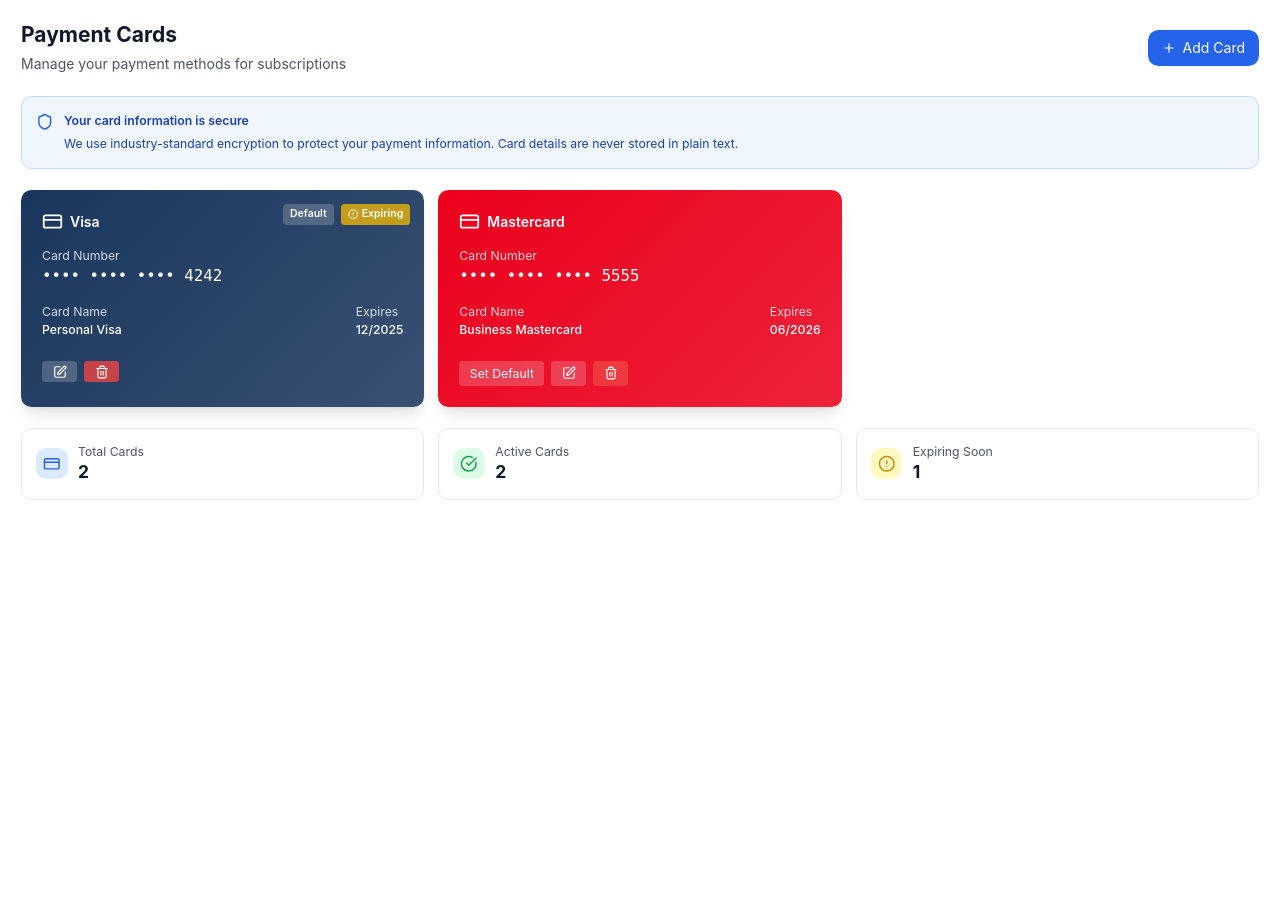
Scenario: PaymentCardsView › Card Validation › should validate CVV
Click the button "Add Card": x=1203, y=48 [1148,30,1259,66]
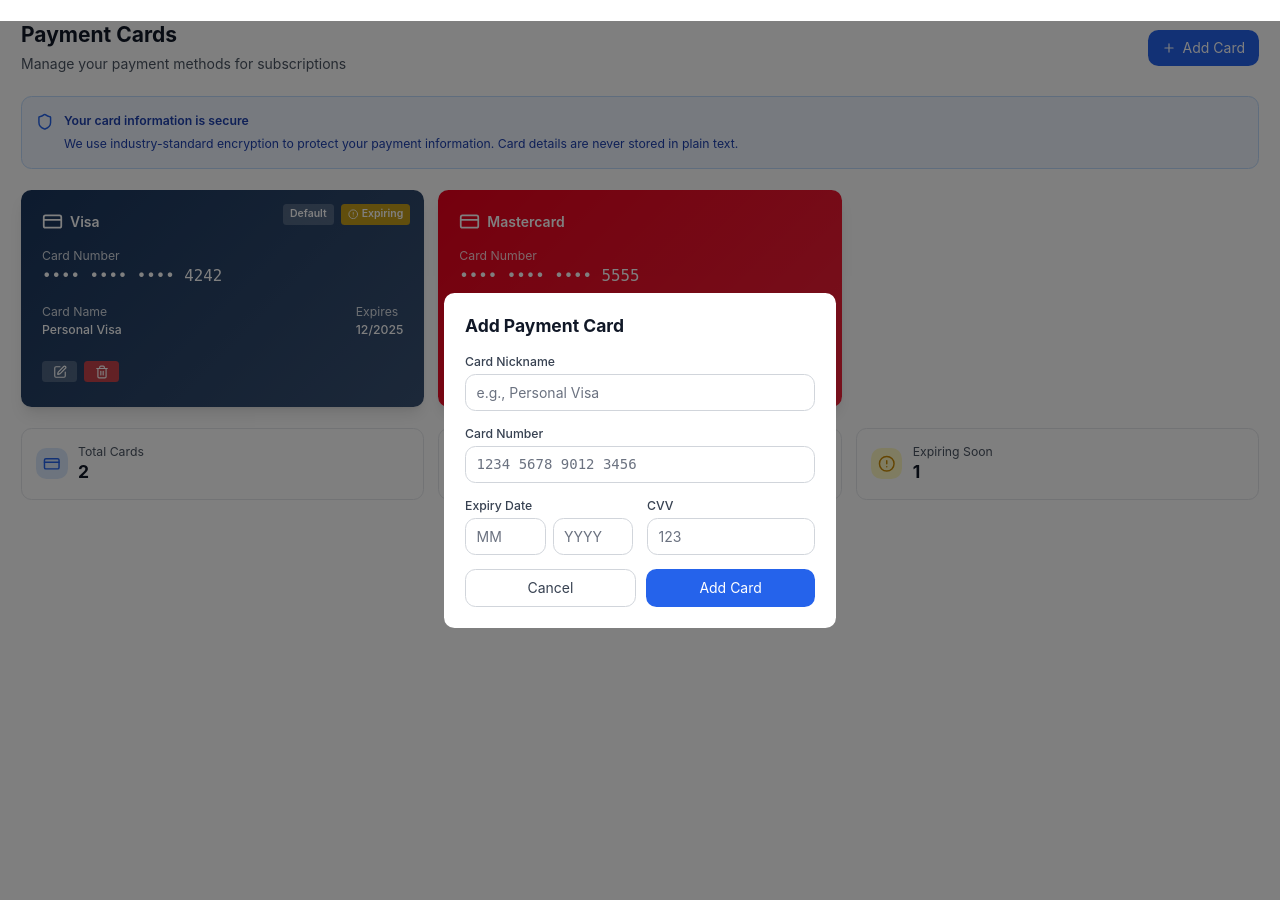
In the field with placeholder "123": x=731, y=536 [647,518,815,554], type "12"
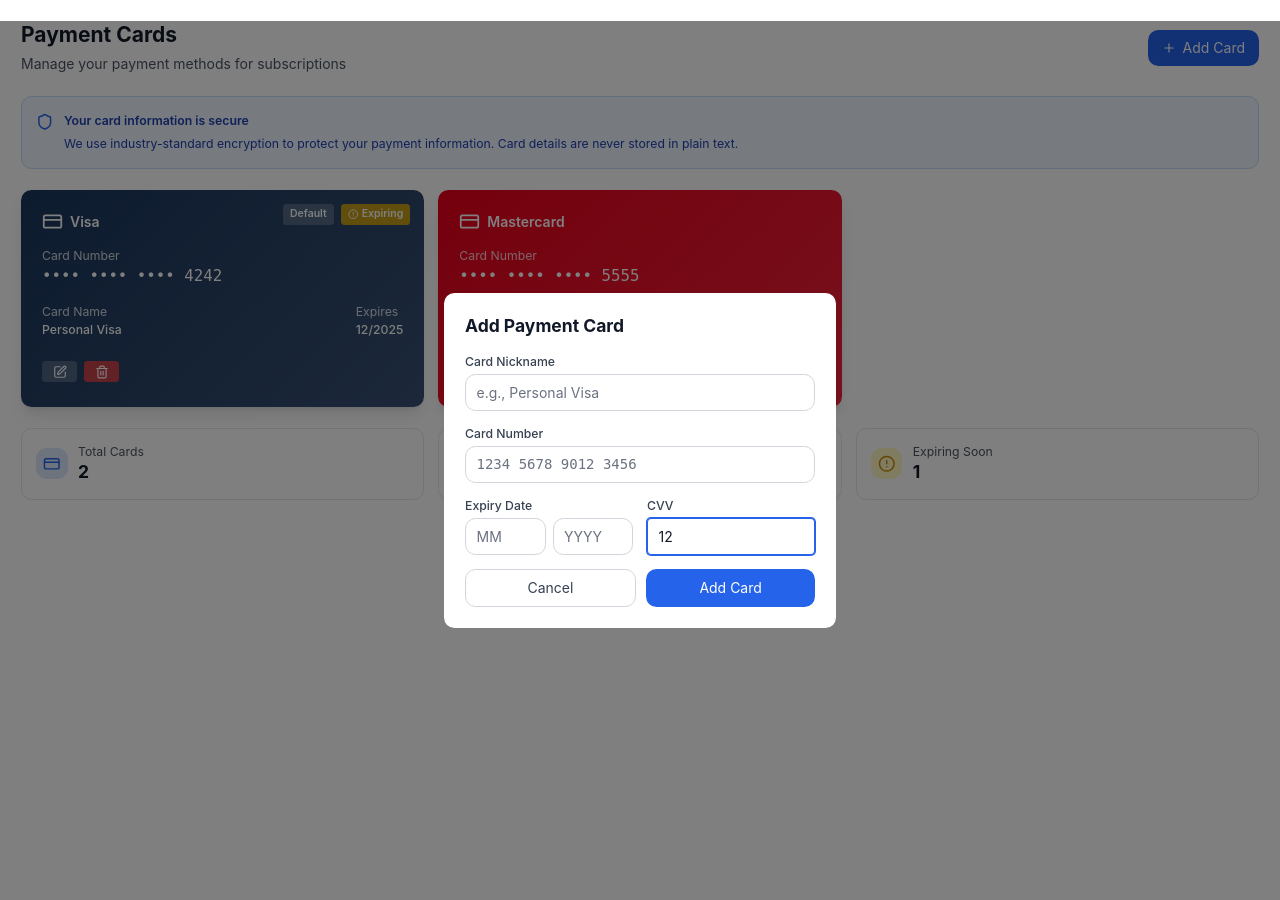
Submit the form, box [465,352,815,607]
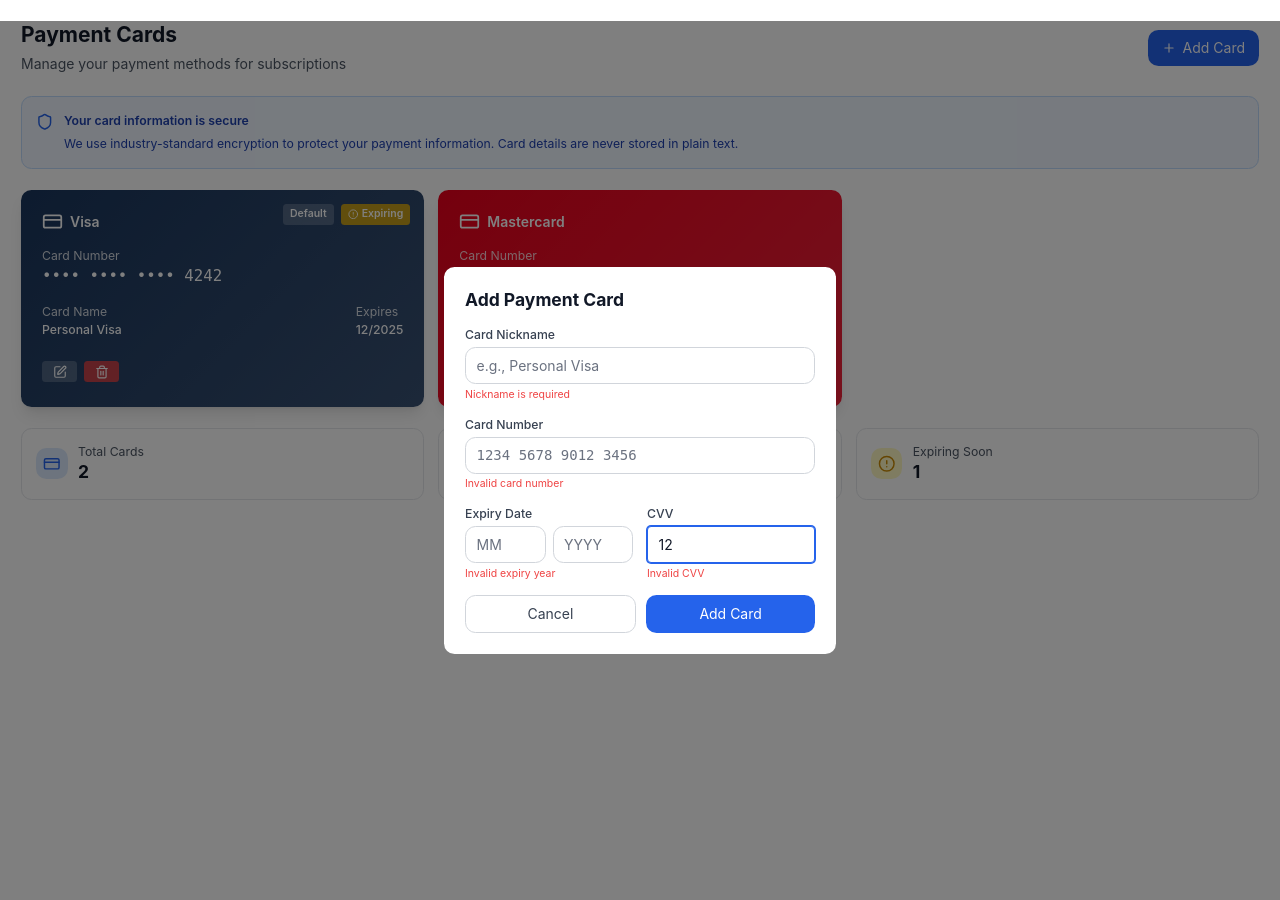
Result: the text "Invalid CVV" is shown at [647,567,704,580]
